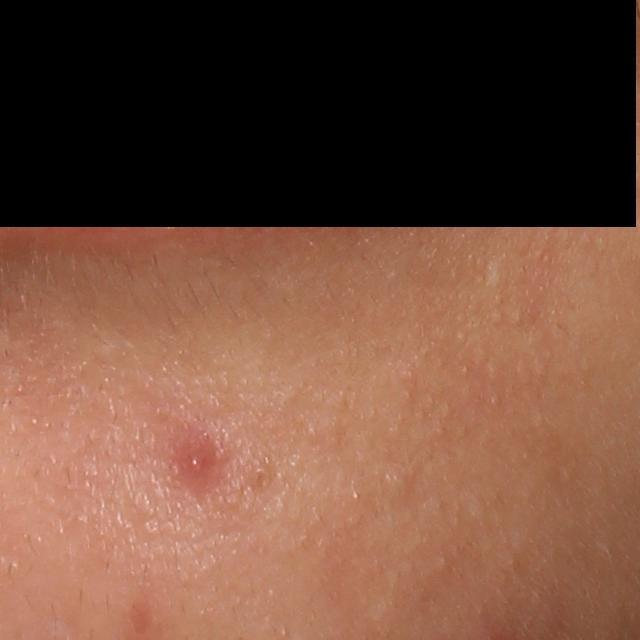comedo: (379, 459, 416, 495)
papule: (172, 442, 221, 493)
